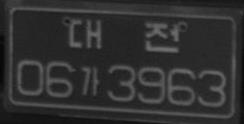0: (16, 59, 44, 97)
3: (106, 63, 137, 102), (197, 68, 227, 108)
6: (166, 67, 196, 106), (45, 60, 74, 99)
9: (137, 65, 166, 105)
가: (78, 64, 100, 97)
대전_D: (68, 17, 180, 55)
